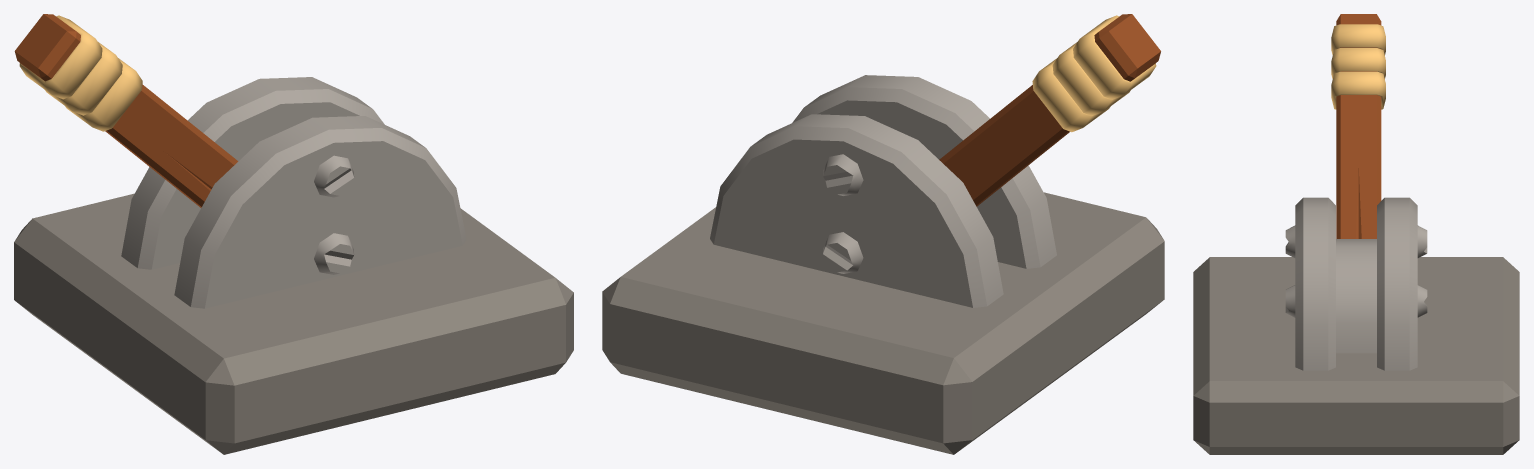
Rendered from m_dec_dung_lever_posA.fbx.
3 views of the same model, side by side, from view 1: azimuth 30°, elevation 25°; view 2: azimuth 150°, elevation 25°; view 3: azimuth 270°, elevation 25° (orthographic). The views are drawn at different scales.
Visible parts, largest first — view 1: m_dec_dung_lever_posA; view 2: m_dec_dung_lever_posA; view 3: m_dec_dung_lever_posA.
Boxes of the visible parts, bbox=[...] form: m_dec_dung_lever_posA: bbox=[14, 14, 573, 454]; m_dec_dung_lever_posA: bbox=[602, 14, 1164, 454]; m_dec_dung_lever_posA: bbox=[1193, 14, 1519, 454].
Size of the model in its own units: 2.44 by 1.96 by 2.
